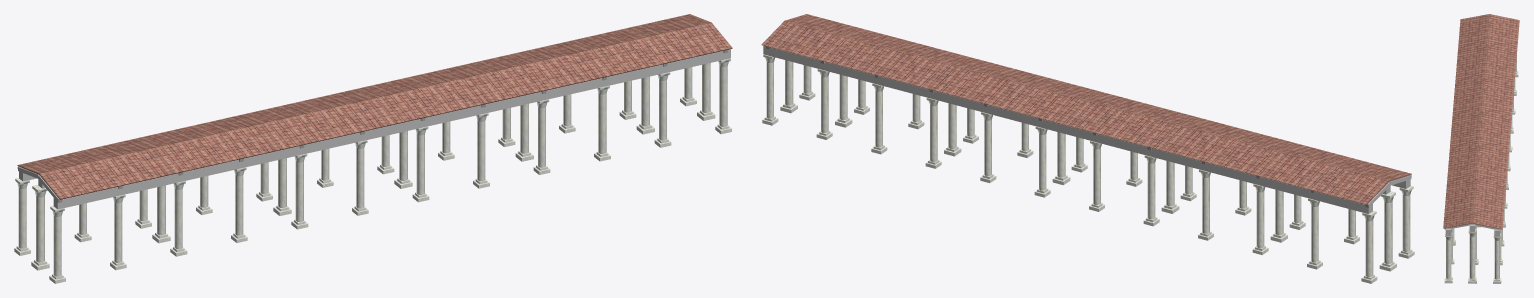
Rendered from wood04.fbx.
The picture shows the model from 3 angles, left to right: view 1: azimuth 30°, elevation 25°; view 2: azimuth 150°, elevation 25°; view 3: azimuth 270°, elevation 25°; orthographic projection. The views are drawn at different scales.
Parts seen in each view (by area): view 1: rooftiles_3, wood26_111, white_marble_252, white_marble_253, white_marble_255, white_marble_289, white_marble_279, white_marble_275, white_marble_269, white_marble_259, white_marble_246, white_marble_285 (+4 smaller); view 2: rooftiles_3, wood26_87, white_marble_252, white_marble_253, white_marble_255, white_marble_273, white_marble_263, white_marble_293, white_marble_250, white_marble_297, white_marble_287, white_marble_283 (+4 smaller); view 3: rooftiles_3, white_marble_248, white_marble_250, white_marble_246, white_marble_302.
Boxes of the visible parts, x1=… form: rooftiles_3: x1=17, y1=14, x2=732, y2=199; wood26_111: x1=53, y1=49, x2=730, y2=209; white_marble_252: x1=32, y1=185, x2=47, y2=262; white_marble_253: x1=15, y1=178, x2=29, y2=248; white_marble_255: x1=50, y1=206, x2=64, y2=276; white_marble_289: x1=476, y1=113, x2=488, y2=181; white_marble_279: x1=355, y1=140, x2=367, y2=208; white_marble_275: x1=294, y1=153, x2=307, y2=221; white_marble_269: x1=234, y1=167, x2=246, y2=235; white_marble_259: x1=113, y1=194, x2=125, y2=262; white_marble_246: x1=718, y1=58, x2=730, y2=126; white_marble_285: x1=415, y1=126, x2=428, y2=194; rooftiles_3: x1=761, y1=14, x2=1411, y2=204; wood26_87: x1=763, y1=45, x2=1372, y2=213; white_marble_252: x1=1380, y1=191, x2=1395, y2=263; white_marble_253: x1=1362, y1=211, x2=1376, y2=276; white_marble_255: x1=1399, y1=186, x2=1413, y2=251; white_marble_273: x1=1144, y1=155, x2=1156, y2=219; white_marble_263: x1=1253, y1=184, x2=1265, y2=248; white_marble_293: x1=926, y1=97, x2=938, y2=161; white_marble_250: x1=763, y1=54, x2=775, y2=118; white_marble_297: x1=872, y1=83, x2=883, y2=147; white_marble_287: x1=981, y1=112, x2=992, y2=176; white_marble_283: x1=1035, y1=126, x2=1047, y2=190; rooftiles_3: x1=1443, y1=14, x2=1519, y2=229; white_marble_248: x1=1468, y1=228, x2=1476, y2=278; white_marble_250: x1=1493, y1=233, x2=1500, y2=279; white_marble_246: x1=1445, y1=233, x2=1452, y2=278; white_marble_302: x1=1475, y1=226, x2=1476, y2=259.
Size of the model in its own units: 2303 by 309 by 353.
